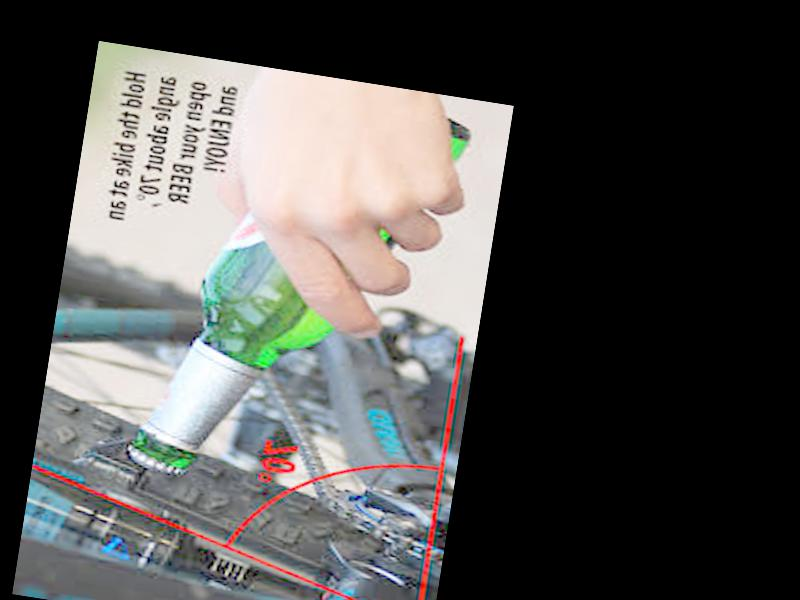Beer: (125, 75, 473, 517)
